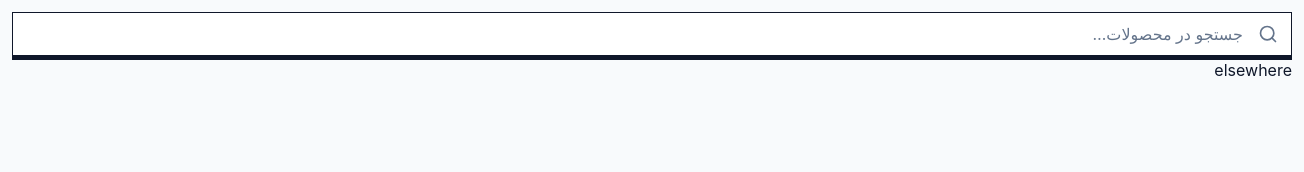
Test: the phone field before hydration › stays a plain field for a visitor already typing in it, until it loses the focus
The image size is (1304, 172).
Later steps or results of the test are not shown.
Type "هدف" into the search field named "q" at (652,34), box [12,12,1292,56]
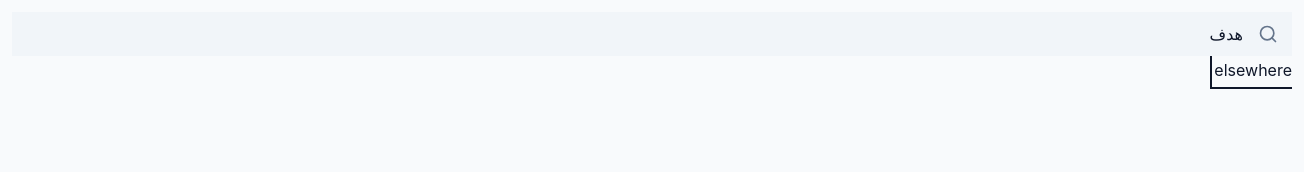
Expected: the search field named "q" has attribute aria-haspopup="dialog", [12,12,1292,56]
